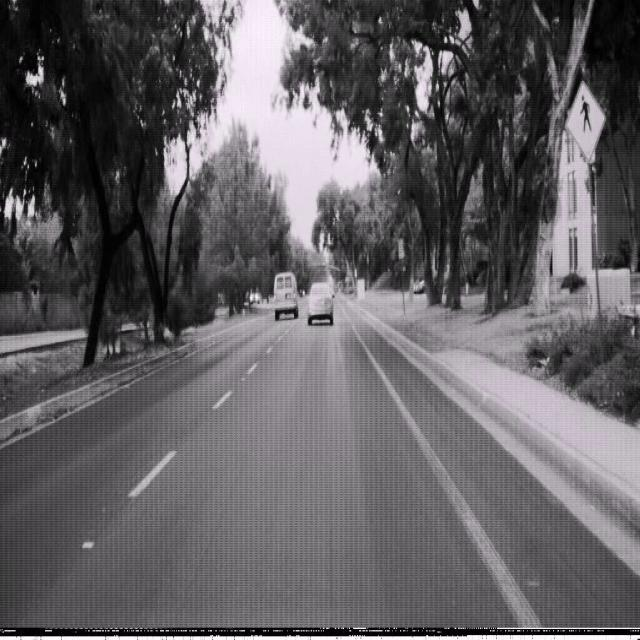pedestrianCrossing: (565, 78, 606, 162)
